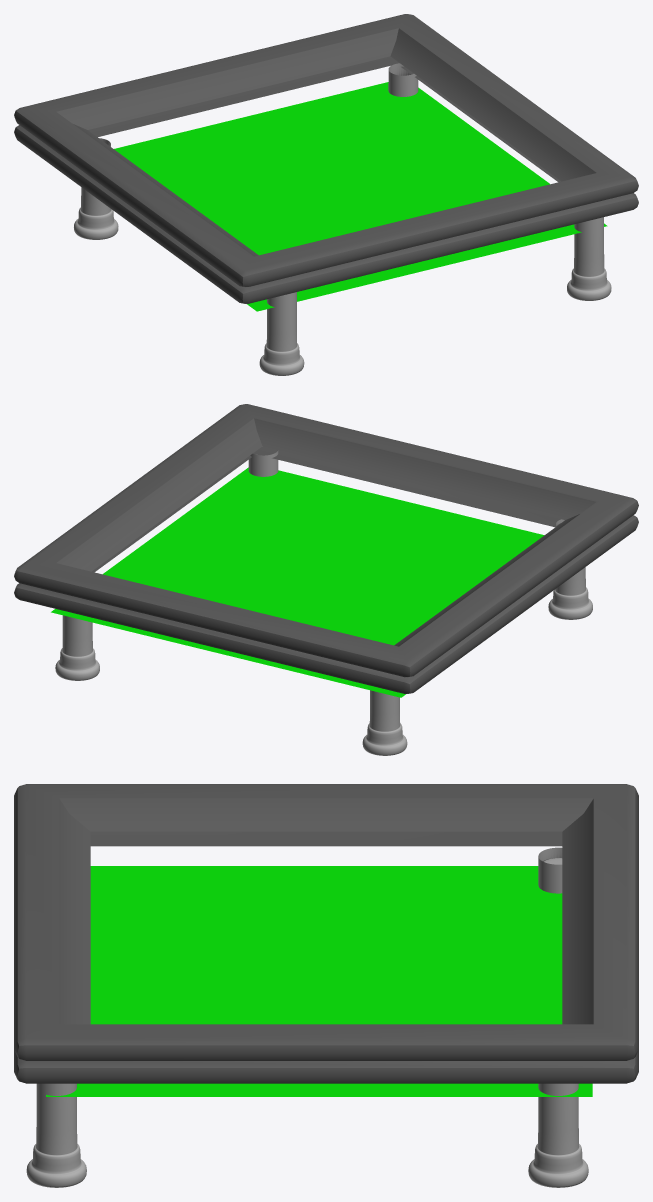
The model's file is trampoline.fbx.
3 renders of one model, top to bottom at view 1: azimuth 30°, elevation 25°; view 2: azimuth 150°, elevation 25°; view 3: azimuth 270°, elevation 25°, orthographic. The views are drawn at different scales.
Parts seen in each view (by area): view 1: polySurface4, trampoline_bong2, pCylinder5; view 2: polySurface4, trampoline_bong2, pCylinder5; view 3: polySurface4, trampoline_bong2, pCylinder5.
Part boxes in pixels (<box>): polySurface4: <box>14,14,638,303</box>; trampoline_bong2: <box>114,82,607,311</box>; pCylinder5: <box>74,63,611,375</box>; polySurface4: <box>14,404,638,693</box>; trampoline_bong2: <box>51,467,544,697</box>; pCylinder5: <box>55,446,592,755</box>; polySurface4: <box>14,784,638,1083</box>; trampoline_bong2: <box>46,866,592,1096</box>; pCylinder5: <box>26,847,588,1187</box>.
Size of the model in its own units: 20.43 by 5.71 by 20.43.
